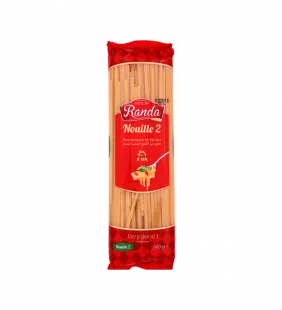RANDA: (100, 29, 181, 276)
